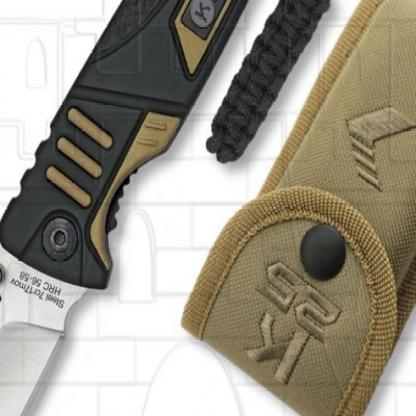knife: (0, 183, 127, 415)
